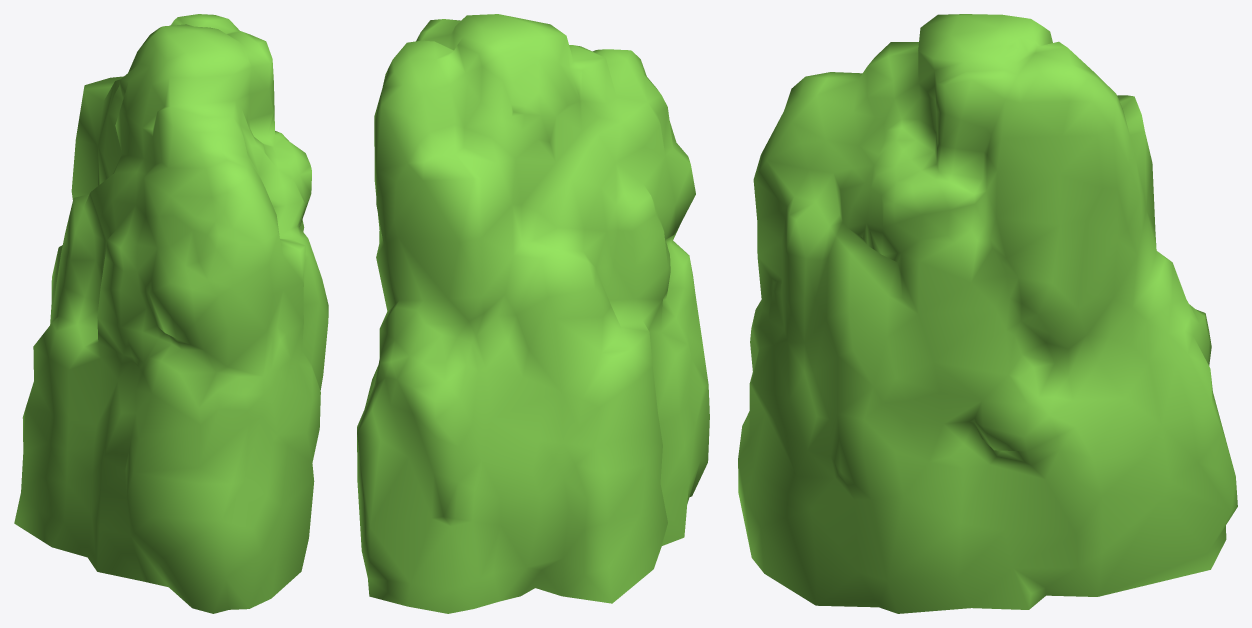
Rendered from rock_03.FBX.
3 renders of one model, left to right at view 1: azimuth 30°, elevation 25°; view 2: azimuth 150°, elevation 25°; view 3: azimuth 270°, elevation 25°, orthographic. The views are drawn at different scales.
Parts seen in each view (by area): view 1: rock_03; view 2: rock_03; view 3: rock_03.
Part boxes in pixels (bbox=[...]): rock_03: bbox=[14, 14, 328, 613]; rock_03: bbox=[357, 14, 709, 613]; rock_03: bbox=[738, 14, 1237, 613].
Bounding box in the file's own units: 87.78 × 179 × 144.
